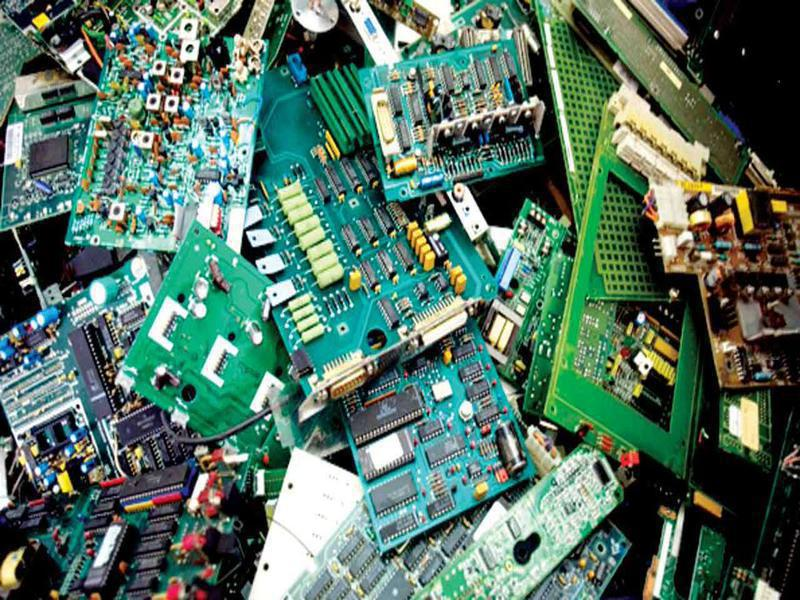circuit_board: (239, 164, 513, 404), (57, 15, 286, 260), (1, 252, 216, 493), (327, 320, 555, 544), (33, 446, 285, 600), (404, 446, 640, 600), (632, 178, 800, 390), (349, 34, 555, 204)
